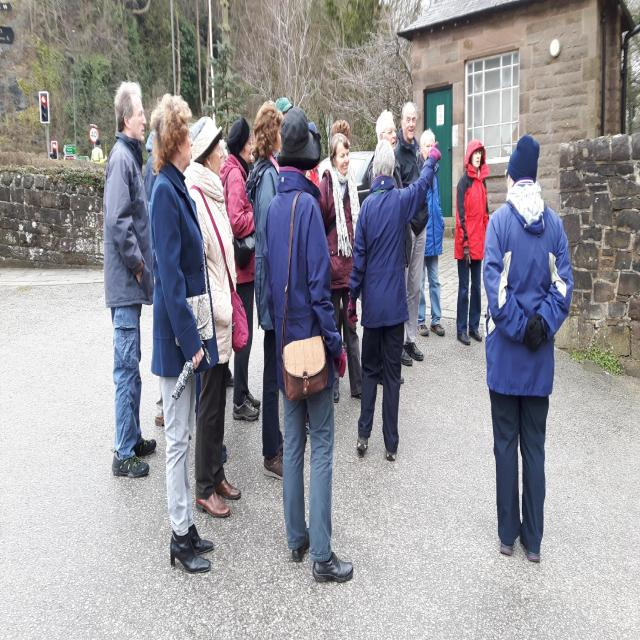body: (260, 104, 354, 586), (482, 132, 576, 566), (148, 90, 221, 576), (346, 137, 442, 465), (182, 115, 244, 520), (101, 77, 158, 480), (242, 98, 286, 484), (216, 114, 262, 424), (148, 96, 190, 432), (366, 107, 414, 388), (316, 132, 365, 404), (391, 99, 430, 368), (453, 136, 491, 348), (414, 128, 446, 338), (306, 120, 321, 189), (90, 138, 108, 165), (329, 118, 351, 138), (218, 138, 229, 167), (304, 413, 312, 439)
